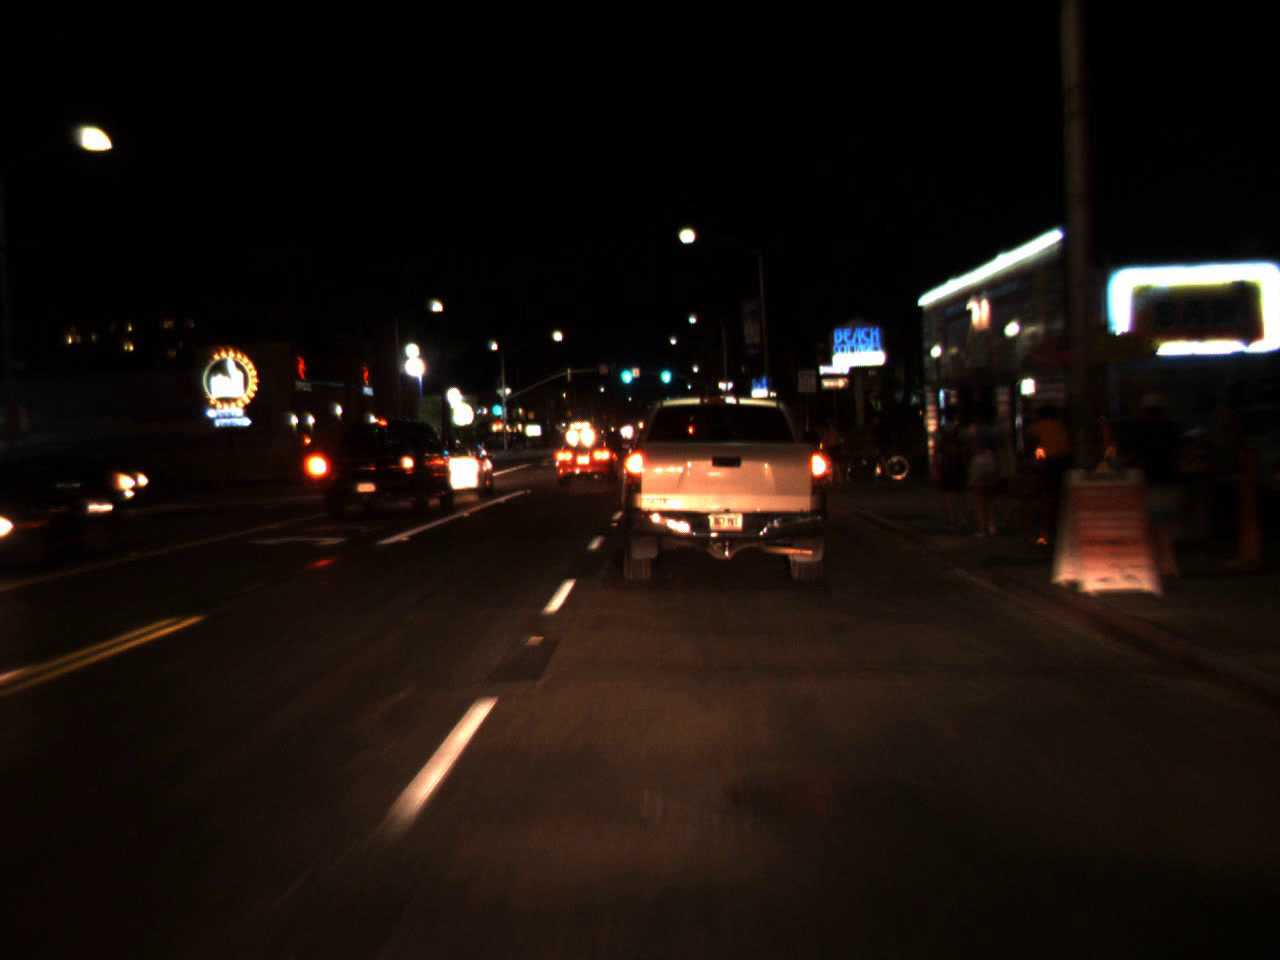go: (617, 353, 635, 389), (657, 353, 673, 389), (491, 392, 501, 419)
